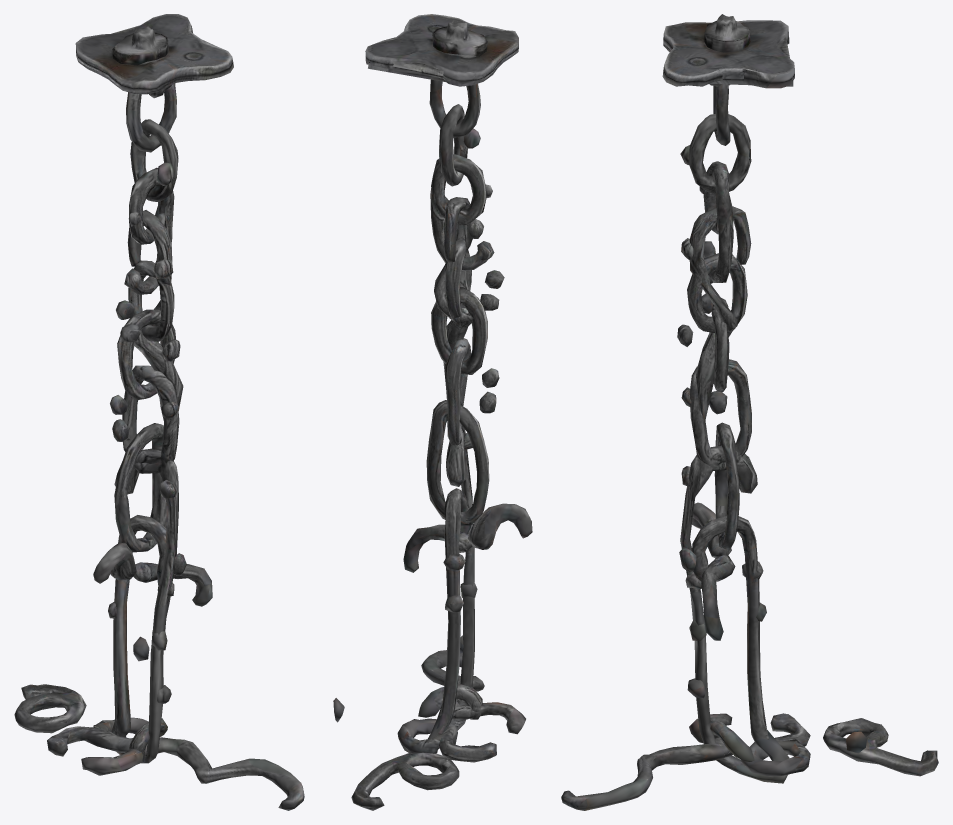
File: fj_correntes.glb
3 views of the same model, side by side, from view 1: azimuth 30°, elevation 25°; view 2: azimuth 150°, elevation 25°; view 3: azimuth 270°, elevation 25° (orthographic). The views are drawn at different scales.
Parts seen in each view (by area): view 1: Mesh_0.1339; view 2: Mesh_0.1339; view 3: Mesh_0.1339.
Boxes of the visible parts, x1=… form: Mesh_0.1339: x1=14, y1=14, x2=304, y2=810; Mesh_0.1339: x1=333, y1=14, x2=532, y2=810; Mesh_0.1339: x1=561, y1=14, x2=938, y2=810.
Size of the model in its own units: 0.1271 by 0.5723 by 0.2576.
1 material, 1 textured.
